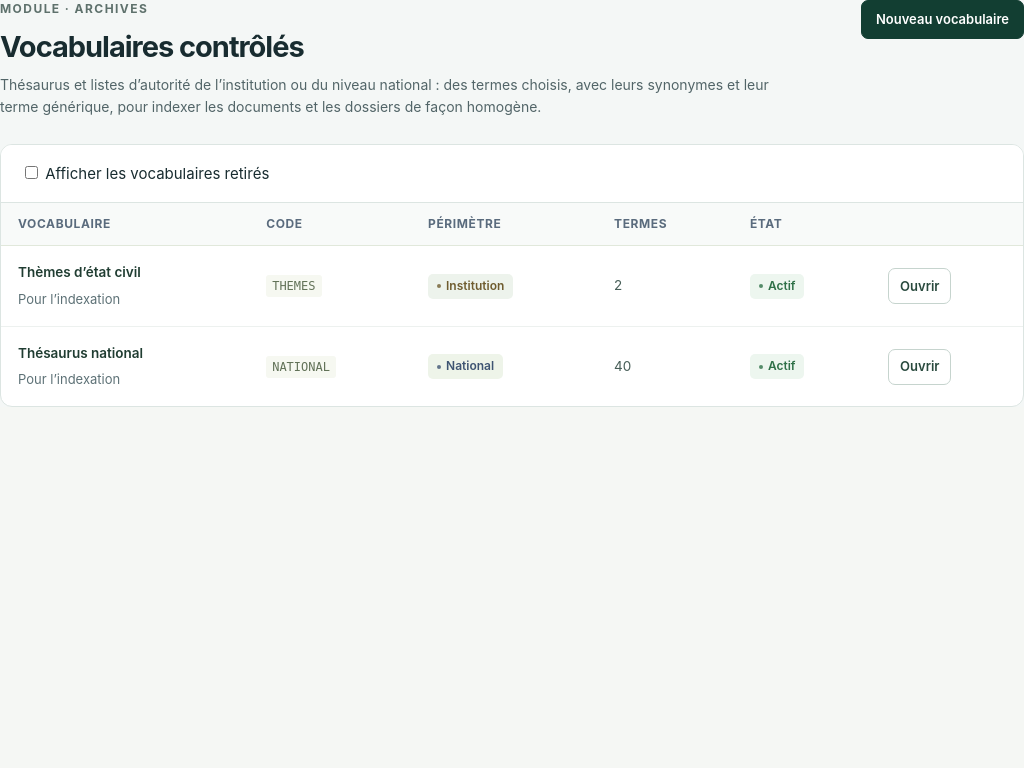
Test case: ouvre un vocabulaire : termes en arbre, synonymes, emplois
Click the button "Ouvrir" in the row of "Thèmes d’état civil". click: (920, 286)
box: [888, 268, 952, 304]
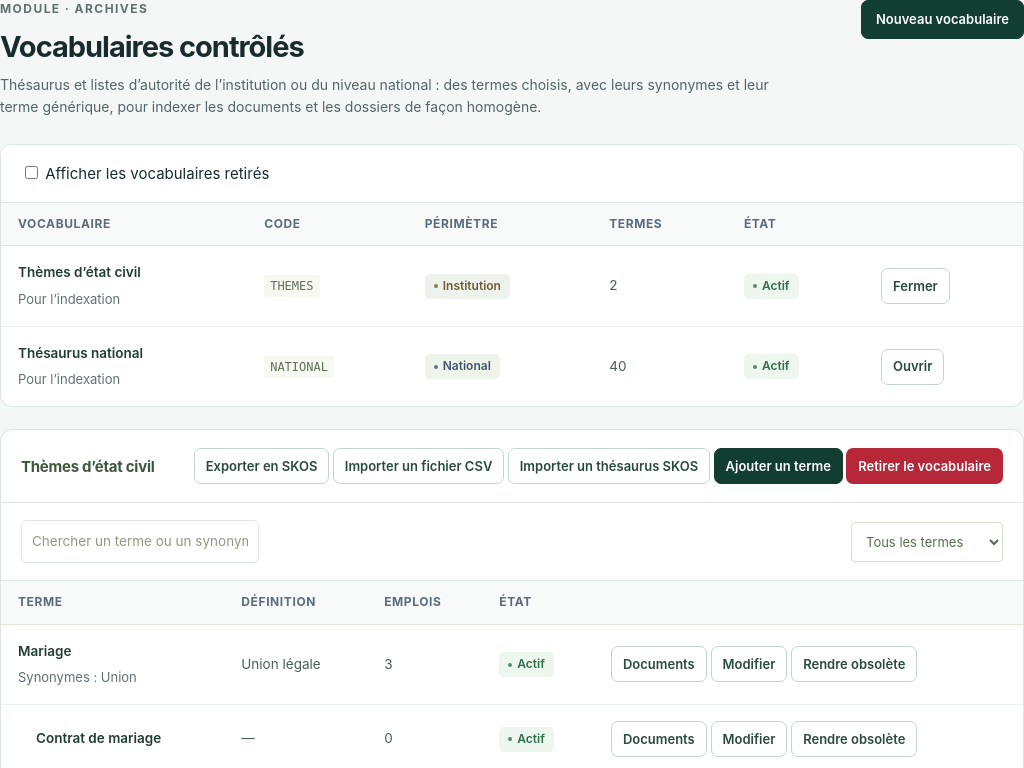
Now the text "Contrat de mariage" is shown, box [36, 730, 161, 746]
Now the text "Synonymes : Union" is shown, box [18, 669, 137, 685]
Now the text "Union légale" is shown, box [224, 624, 367, 705]
